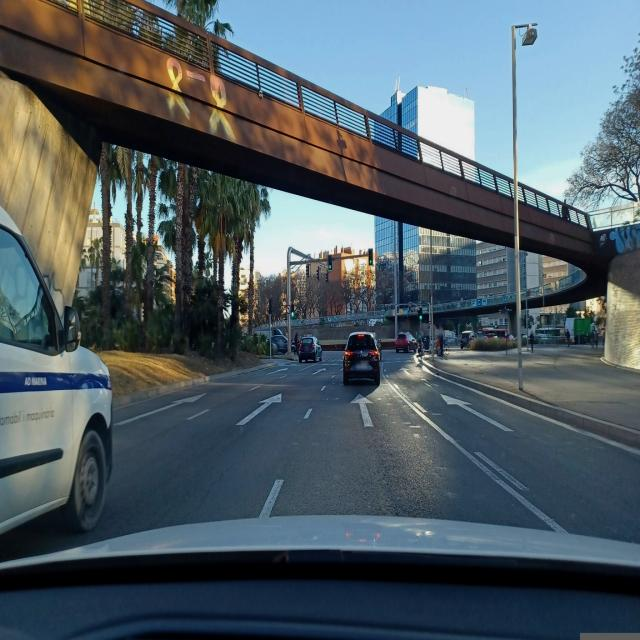car: (0, 167, 114, 566), (342, 330, 382, 387), (298, 334, 322, 363), (395, 331, 416, 355), (460, 330, 475, 349)
